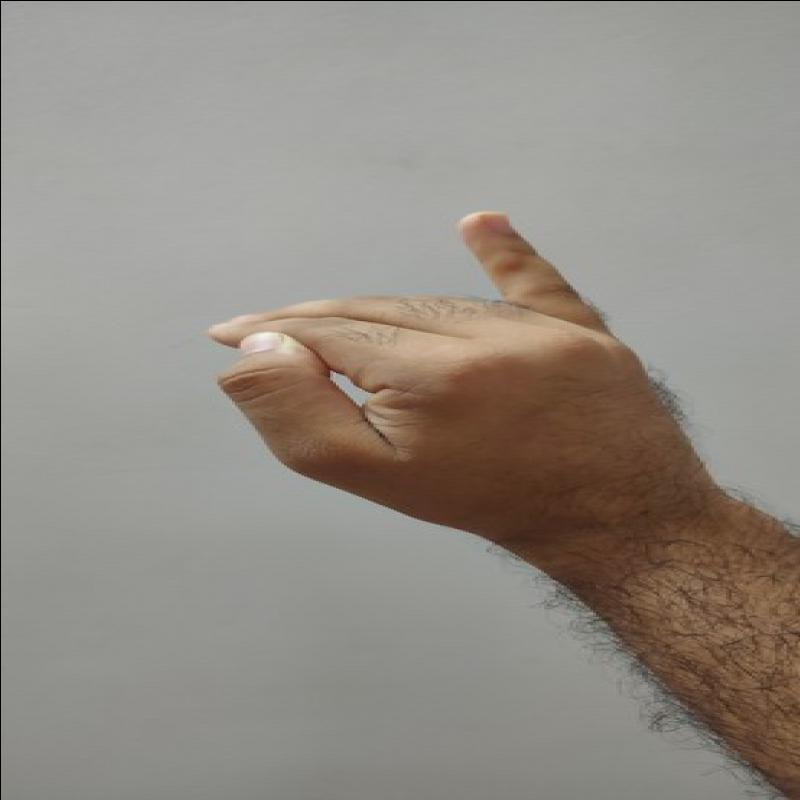Kartharee Mukham: (189, 199, 685, 550)
